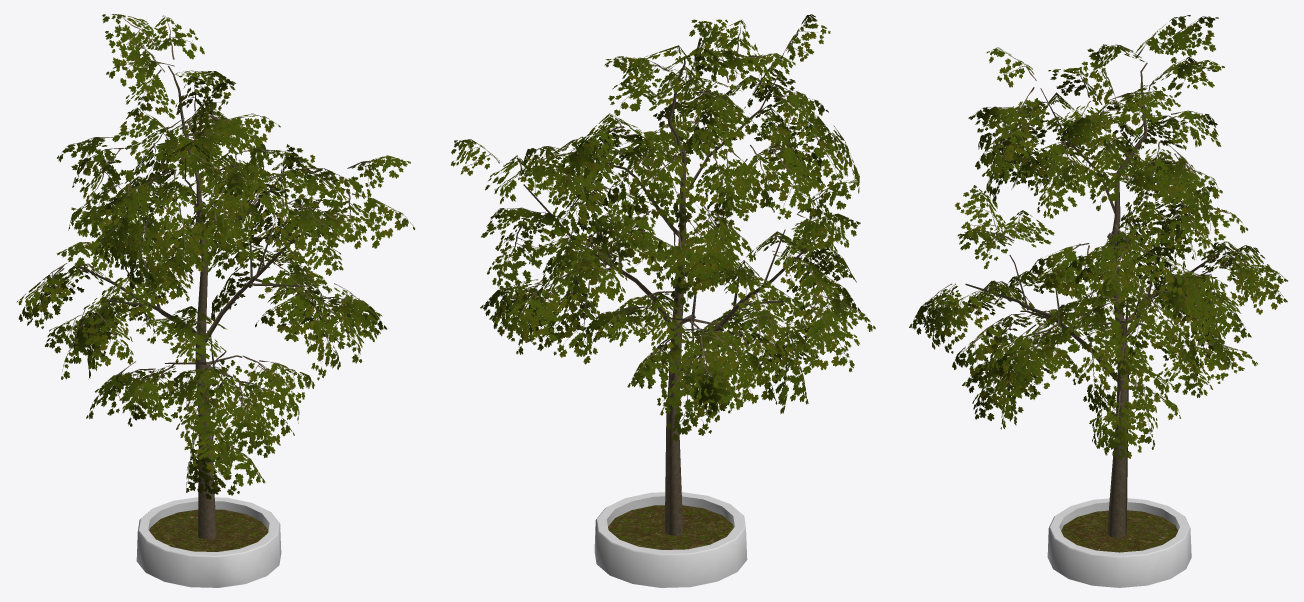
File: nc_tree_08.fbx
The picture shows the model from 3 angles, left to right: view 1: azimuth 30°, elevation 25°; view 2: azimuth 150°, elevation 25°; view 3: azimuth 270°, elevation 25°; orthographic projection. The views are drawn at different scales.
Parts seen in each view (by area): view 1: nc_tree_08_LOD0; view 2: nc_tree_08_LOD0; view 3: nc_tree_08_LOD0.
Boxes of the visible parts, x1=… form: nc_tree_08_LOD0: x1=16, y1=14, x2=414, y2=587; nc_tree_08_LOD0: x1=451, y1=14, x2=875, y2=587; nc_tree_08_LOD0: x1=909, y1=15, x2=1287, y2=587.
Size of what is drawn, in the model's own units: 2.81 by 3.96 by 2.65.
